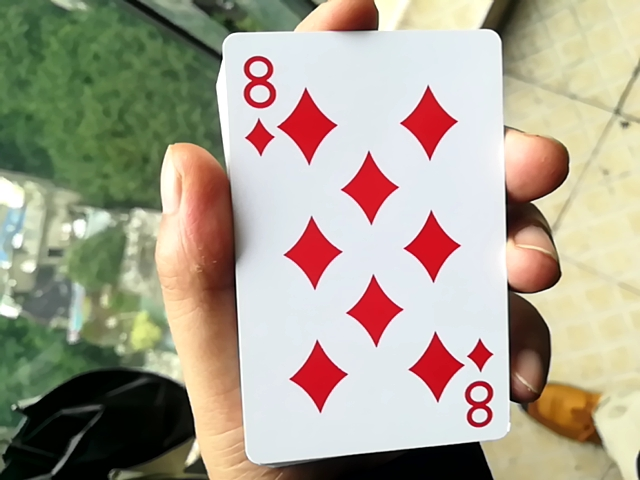fk 8: (206, 11, 508, 464)
